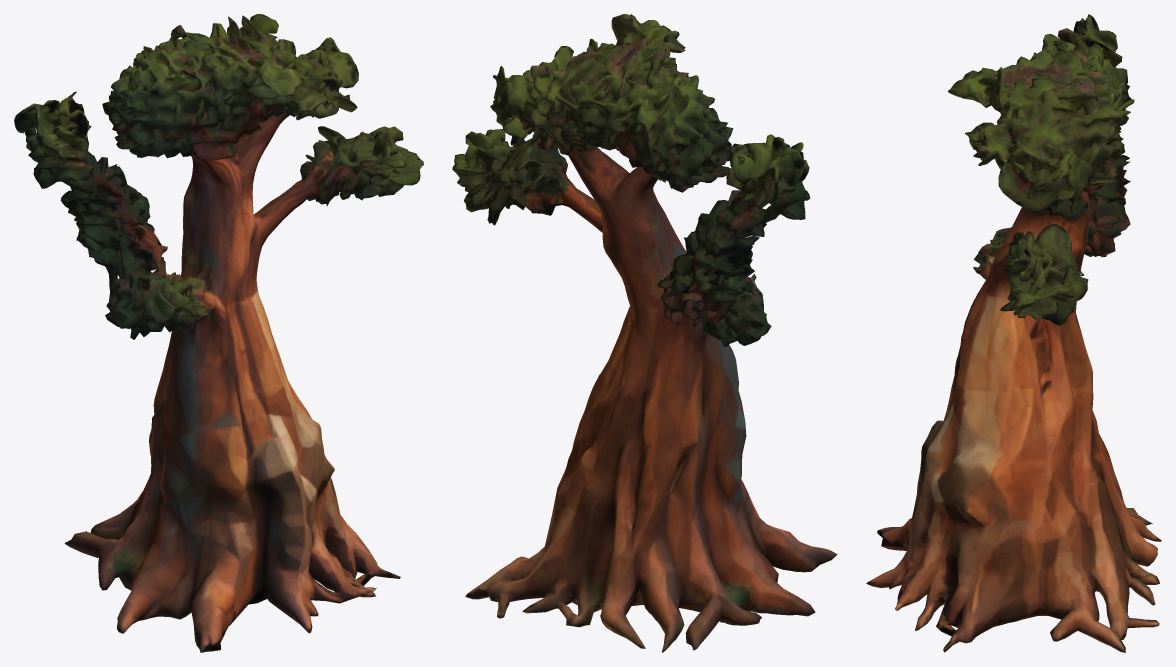
File: AI_TwistedRedwoodTree.fbx
3 views of the same model, side by side, from view 1: azimuth 30°, elevation 25°; view 2: azimuth 150°, elevation 25°; view 3: azimuth 270°, elevation 25° (orthographic). The views are drawn at different scales.
Parts seen in each view (by area): view 1: Mesh_0; view 2: Mesh_0; view 3: Mesh_0.
Boxes of the visible parts, left/top/right/bottom form: Mesh_0: left=14, top=14, right=423, bottom=652; Mesh_0: left=452, top=14, right=837, bottom=652; Mesh_0: left=866, top=14, right=1161, bottom=652.
Bounding box in the file's own units: 140 × 199 × 96.68.
Materials: 1 (1 with a texture image).
